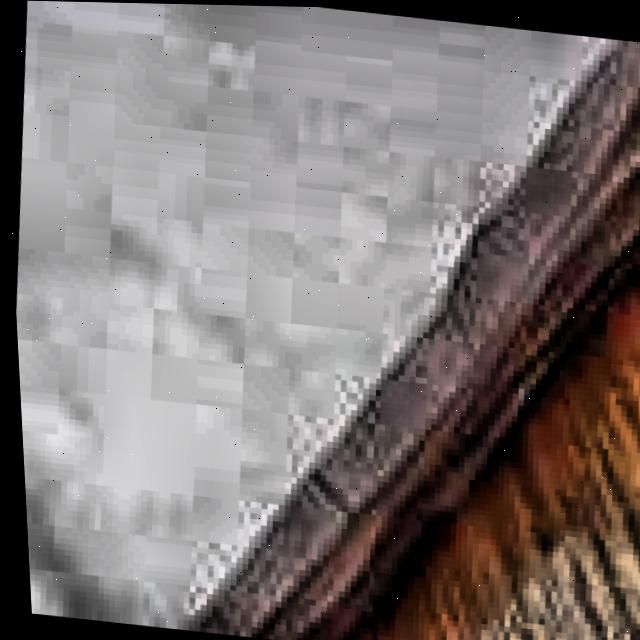paper: (12, 0, 640, 640)
